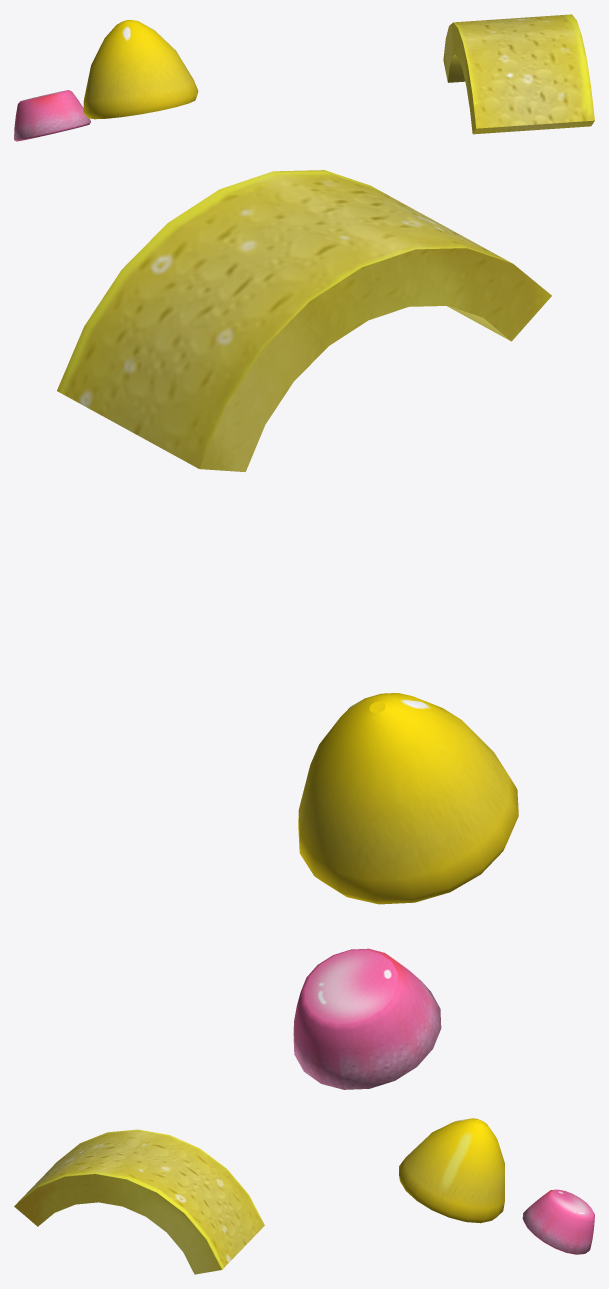
The model's file is seg2touming.fbx.
3 renders of one model, top to bottom at view 1: azimuth 30°, elevation 25°; view 2: azimuth 150°, elevation 25°; view 3: azimuth 270°, elevation 25°, orthographic. The views are drawn at different scales.
Parts seen in each view (by area): view 1: segtouming2; view 2: segtouming2; view 3: segtouming2.
Boxes of the visible parts, x1,y1,x2,y2 form: segtouming2: (14,14,594,141); segtouming2: (57,170,551,1089); segtouming2: (14,1118,594,1274).
Size of the model in its own units: 32.14 by 18.12 by 45.46.
1 material, 1 textured.
